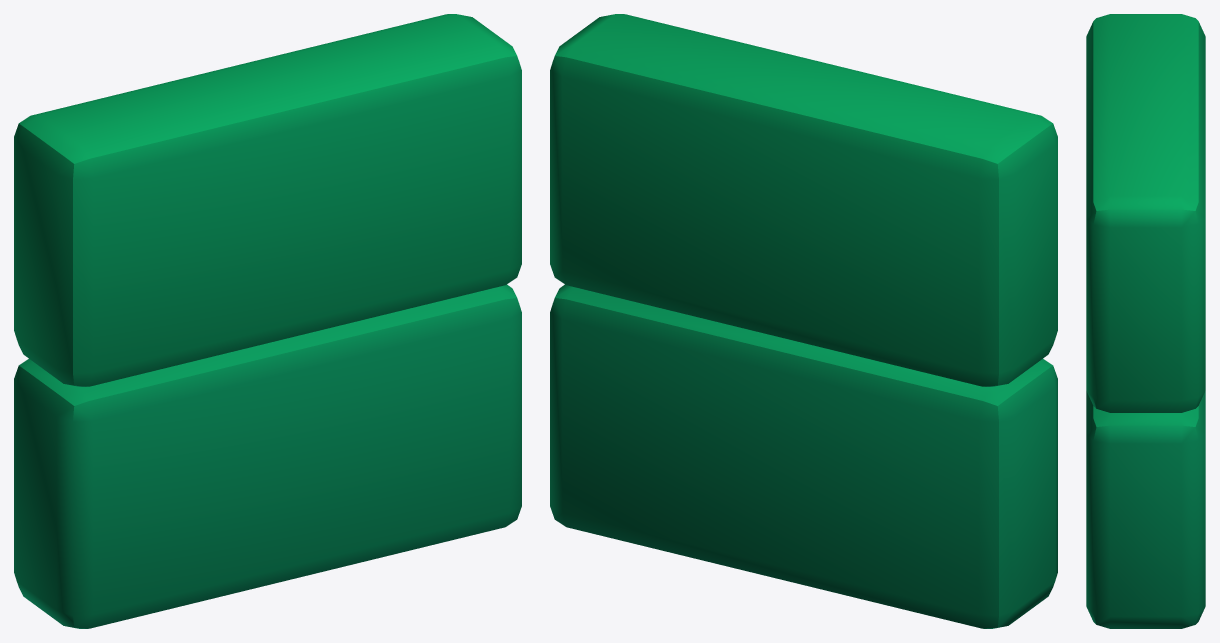
File: kaykit_barrier_4x1x4_green.glb
3 renders of one model, left to right at view 1: azimuth 30°, elevation 25°; view 2: azimuth 150°, elevation 25°; view 3: azimuth 270°, elevation 25°, orthographic. The views are drawn at different scales.
Visible parts, largest first — view 1: barrier_4x1x4_green_visual; view 2: barrier_4x1x4_green_visual; view 3: barrier_4x1x4_green_visual.
Boxes of the visible parts, x1,y1,x2,y2 form: barrier_4x1x4_green_visual: (14, 14, 521, 628); barrier_4x1x4_green_visual: (550, 14, 1057, 628); barrier_4x1x4_green_visual: (1086, 14, 1205, 628).
Size of what is drawn, in the model's own units: 4 by 4 by 1.
Materials: 1 (1 with a texture image).
